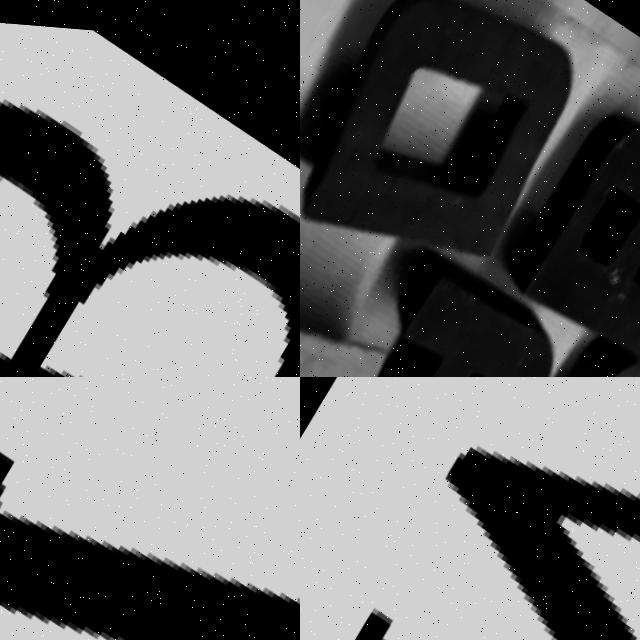A: (317, 235, 570, 377)
B: (0, 95, 300, 377), (494, 84, 640, 377)
D: (300, 0, 602, 299)
I: (0, 506, 300, 640)
L: (300, 107, 468, 377)
N: (300, 377, 640, 640)
P: (460, 289, 640, 377)
